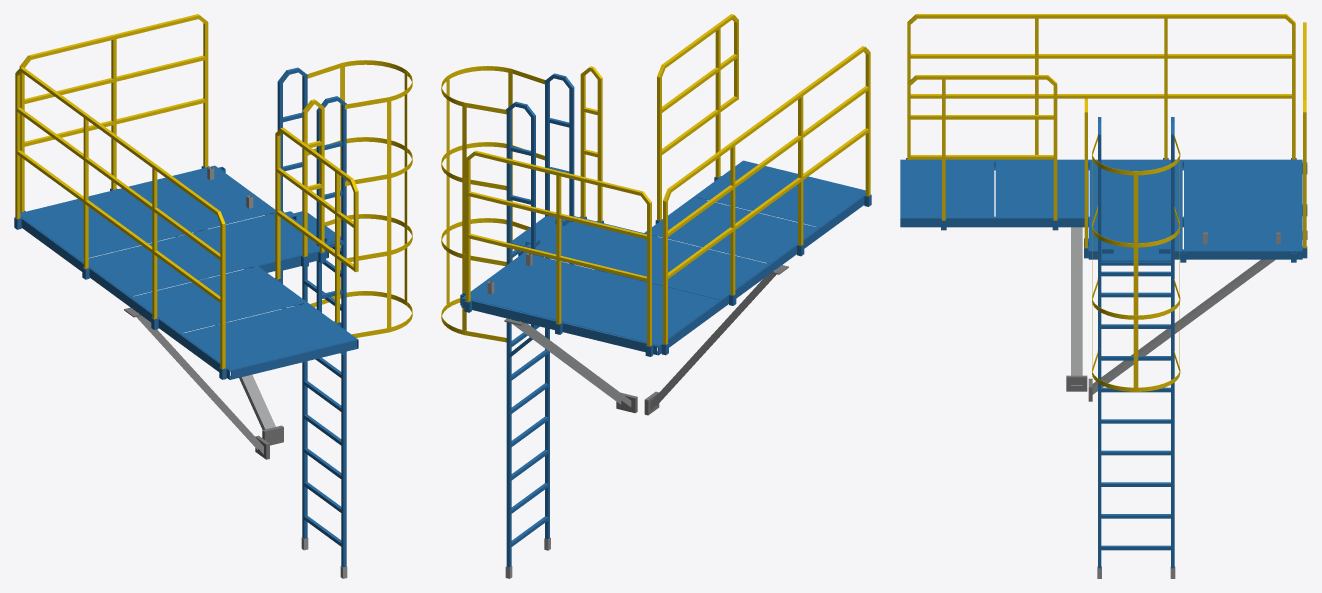
File: Phase25_Stairs_2.fbx
The picture shows the model from 3 angles, left to right: view 1: azimuth 30°, elevation 25°; view 2: azimuth 150°, elevation 25°; view 3: azimuth 270°, elevation 25°; orthographic projection. The views are drawn at different scales.
Visible parts, largest first — view 1: Профили_гнутые_замкнутые_сварные_прямоугольные_ГОСТ_30245_20 (×20), RAL 5015, 71:71:715537, 52:52:716712, 69:69:717834, CPS_КаркасНесущий_Швеллер_ПолкаПараллельная_ГОСТ 8240-97:Бал (×4), RAL 1021 (×6); view 2: Профили_гнутые_замкнутые_сварные_прямоугольные_ГОСТ_30245_20 (×17), RAL 5015, 71:71:715537, CPS_КаркасНесущий_Швеллер_ПолкаПараллельная_ГОСТ 8240-97:Бал (×4), 52:52:716712, 69:69:717834, RAL 1021 (×5), Металлический лист (1):600x240:720530; view 3: Профили_гнутые_замкнутые_сварные_прямоугольные_ГОСТ_30245_20 (×18), RAL 5015, 71:71:715537, CPS_КаркасНесущий_Швеллер_ПолкаПараллельная_ГОСТ 8240-97:Бал (×4), 52:52:716712, 69:69:717834, RAL 1021 (×5), Металлический лист (1):600x240:720530.
Boxes of the visible parts, x1=… form: Профили_гнутые_замкнутые_сварные_прямоугольные_ГОСТ_30245_20 (×20): x1=15, y1=14, x2=353, y2=567; RAL 5015: x1=20, y1=166, x2=275, y2=259; 71:71:715537: x1=80, y1=213, x2=319, y2=296; 52:52:716712: x1=181, y1=303, x2=356, y2=370; 69:69:717834: x1=130, y1=266, x2=306, y2=333; CPS_КаркасНесущий_Швеллер_ПолкаПараллельная_ГОСТ 8240-97:Бал (×4): x1=20, y1=217, x2=356, y2=454; RAL 1021 (×6): x1=307, y1=60, x2=412, y2=337; Профили_гнутые_замкнутые_сварные_прямоугольные_ГОСТ_30245_20 (×17): x1=465, y1=28, x2=870, y2=567; RAL 5015: x1=464, y1=253, x2=719, y2=345; 71:71:715537: x1=526, y1=216, x2=769, y2=299; CPS_КаркасНесущий_Швеллер_ПолкаПараллельная_ГОСТ 8240-97:Бал (×4): x1=462, y1=194, x2=865, y2=409; 52:52:716712: x1=695, y1=161, x2=865, y2=227; 69:69:717834: x1=645, y1=197, x2=818, y2=263; RAL 1021 (×5): x1=441, y1=66, x2=545, y2=330; Металлический лист (1):600x240:720530: x1=511, y1=216, x2=563, y2=247; Профили_гнутые_замкнутые_сварные_прямоугольные_ГОСТ_30245_20 (×18): x1=910, y1=14, x2=1306, y2=568; RAL 5015: x1=1184, y1=160, x2=1300, y2=250; 71:71:715537: x1=1089, y1=160, x2=1182, y2=250; CPS_КаркасНесущий_Швеллер_ПолкаПараллельная_ГОСТ 8240-97:Бал (×4): x1=900, y1=216, x2=1302, y2=394; 52:52:716712: x1=901, y1=160, x2=994, y2=218; 69:69:717834: x1=995, y1=160, x2=1088, y2=218; RAL 1021 (×5): x1=1092, y1=134, x2=1180, y2=391; Металлический лист (1):600x240:720530: x1=1101, y1=250, x2=1170, y2=261.
Size of the model in its own units: 2880 by 3505 by 4377.
